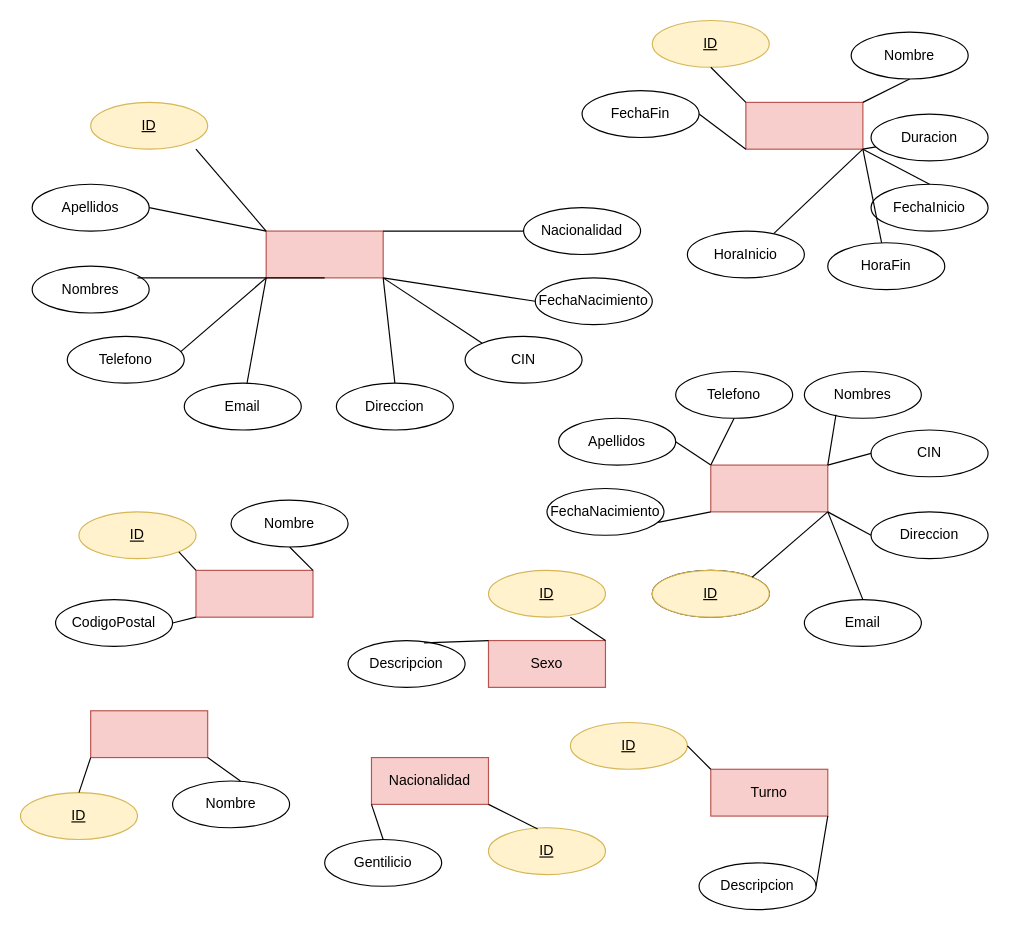
Some shapes in this 1009 by 930 pixel diagram are drawn without their labels. The shapes that lost their labels are listed below. From the top down, each one's centre as x and y in pixels, then its label:
the point at 804,125: Curso
the point at 324,254: Alumnos
the point at 769,488: Profesores
the point at 254,593: Ciudades
the point at 149,734: Barrio
